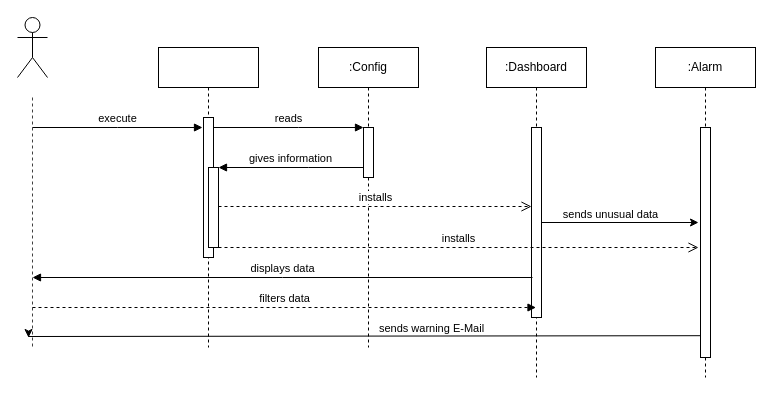
Image size: 773x395. Some labels were removed from this diagram. The centre of each missing label's shape, as x and y in pixels:
:Installer: [208,197]
Actor: [32,47]
